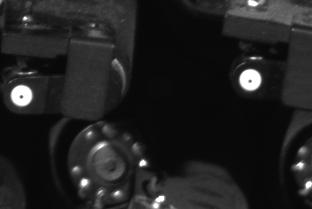fiber: (3, 80, 43, 113), (234, 64, 269, 98)
